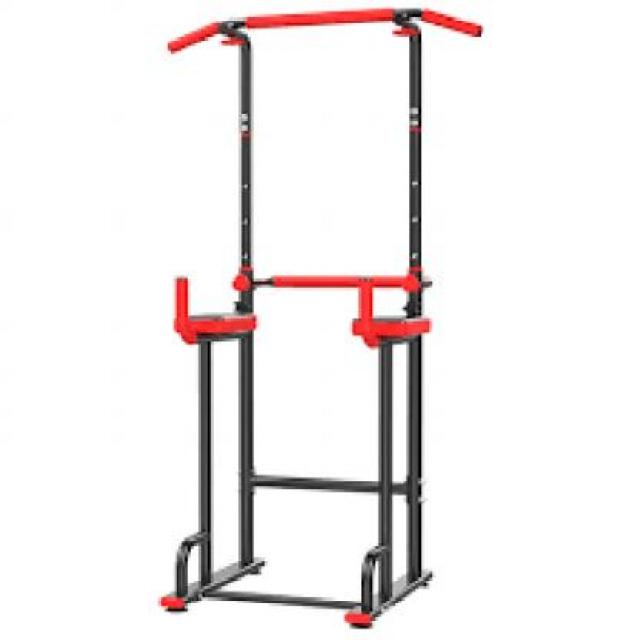chinning dipping: (160, 5, 486, 628)
